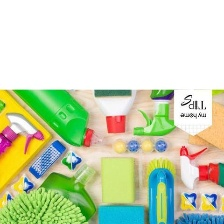cleaning_solution: (1, 62, 109, 149), (132, 25, 183, 139), (7, 161, 99, 224), (90, 19, 139, 137), (0, 112, 46, 165), (176, 142, 224, 192)
